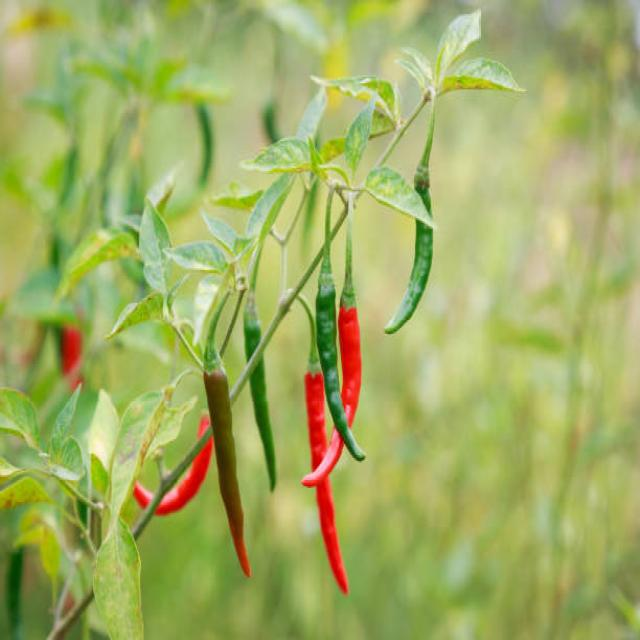Half-Ripe: (204, 368, 250, 577)
Ripe: (316, 478, 349, 593), (338, 306, 361, 427), (301, 429, 344, 487), (305, 369, 328, 470)
Unripe: (316, 188, 365, 460), (385, 170, 432, 334), (244, 292, 276, 498)
